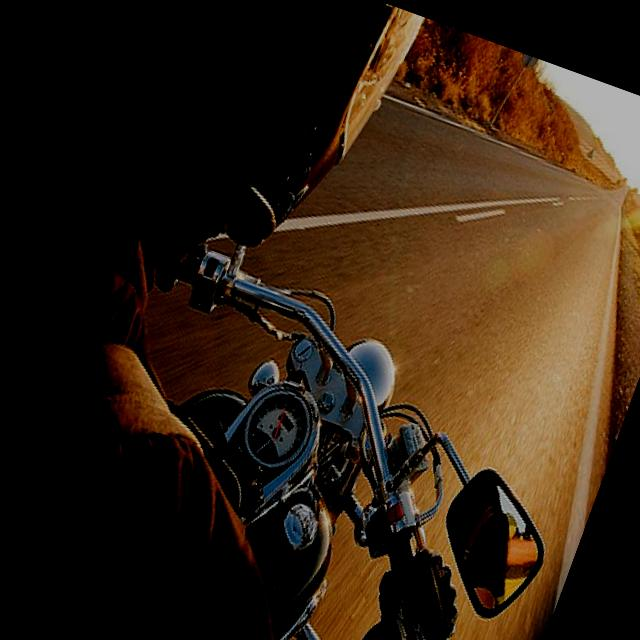Vehicle: (52, 217, 611, 640)
